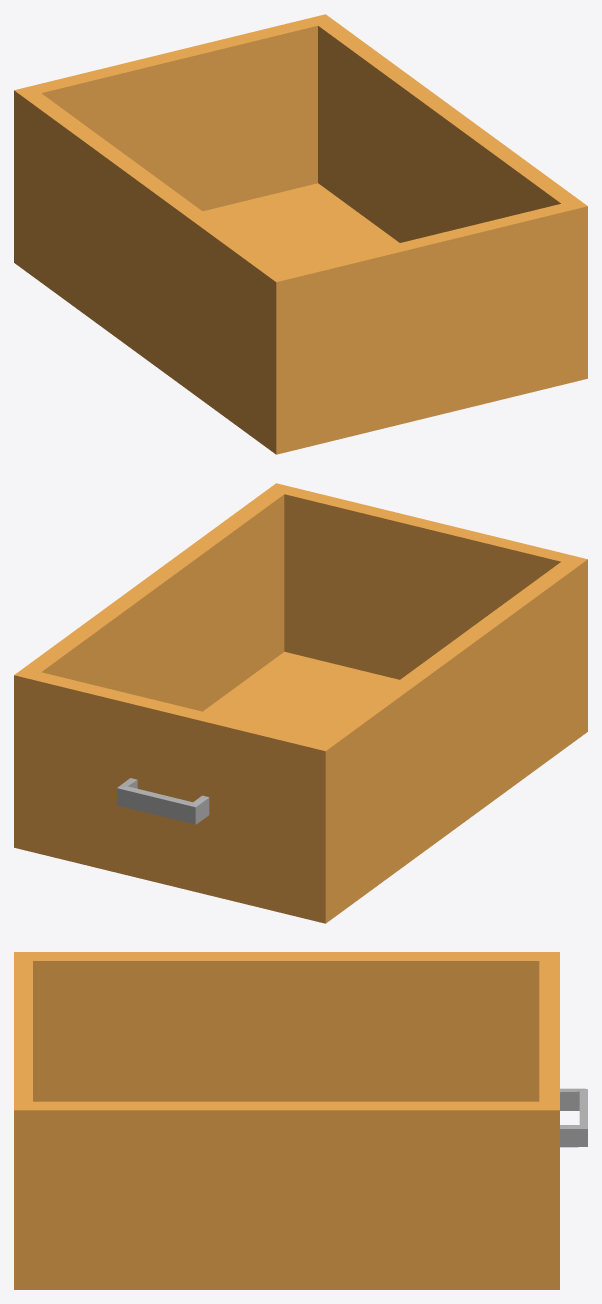
Rendered from drawer.fbx.
The picture shows the model from 3 angles, top to bottom: view 1: azimuth 30°, elevation 25°; view 2: azimuth 150°, elevation 25°; view 3: azimuth 270°, elevation 25°; orthographic projection. The views are drawn at different scales.
Visible parts, largest first — view 1: drawer; view 2: drawer; view 3: drawer.
Boxes of the visible parts, <box> form: drawer: <box>14,14,587,454</box>; drawer: <box>14,483,587,923</box>; drawer: <box>14,952,587,1289</box>.
Bounding box in the file's own units: 0.3486 × 0.1843 × 0.5342.
